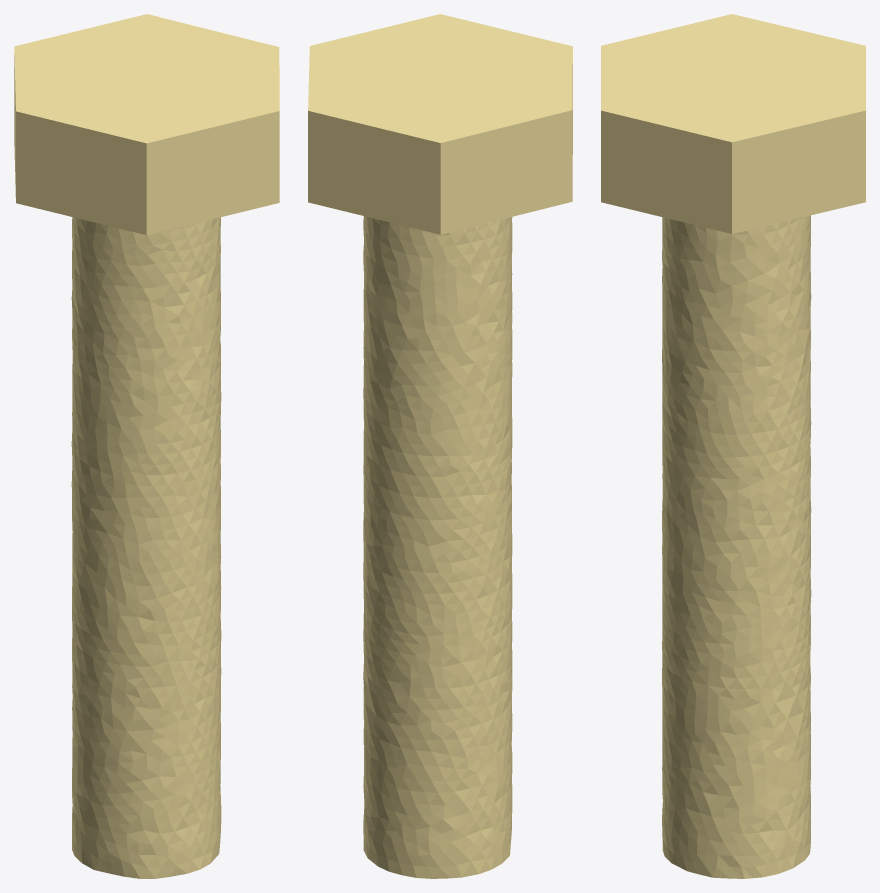
File: input.gltf
The picture shows the model from 3 angles, left to right: view 1: azimuth 30°, elevation 25°; view 2: azimuth 150°, elevation 25°; view 3: azimuth 270°, elevation 25°; orthographic projection.
Visible parts, largest first — view 1: Renderer Node; view 2: Renderer Node; view 3: Renderer Node.
Boxes of the visible parts, x1=… form: Renderer Node: x1=14, y1=14, x2=279, y2=878; Renderer Node: x1=308, y1=14, x2=572, y2=878; Renderer Node: x1=601, y1=14, x2=865, y2=878.
Size of the model in its own units: 0.3048 by 0.8516 by 0.2656.
